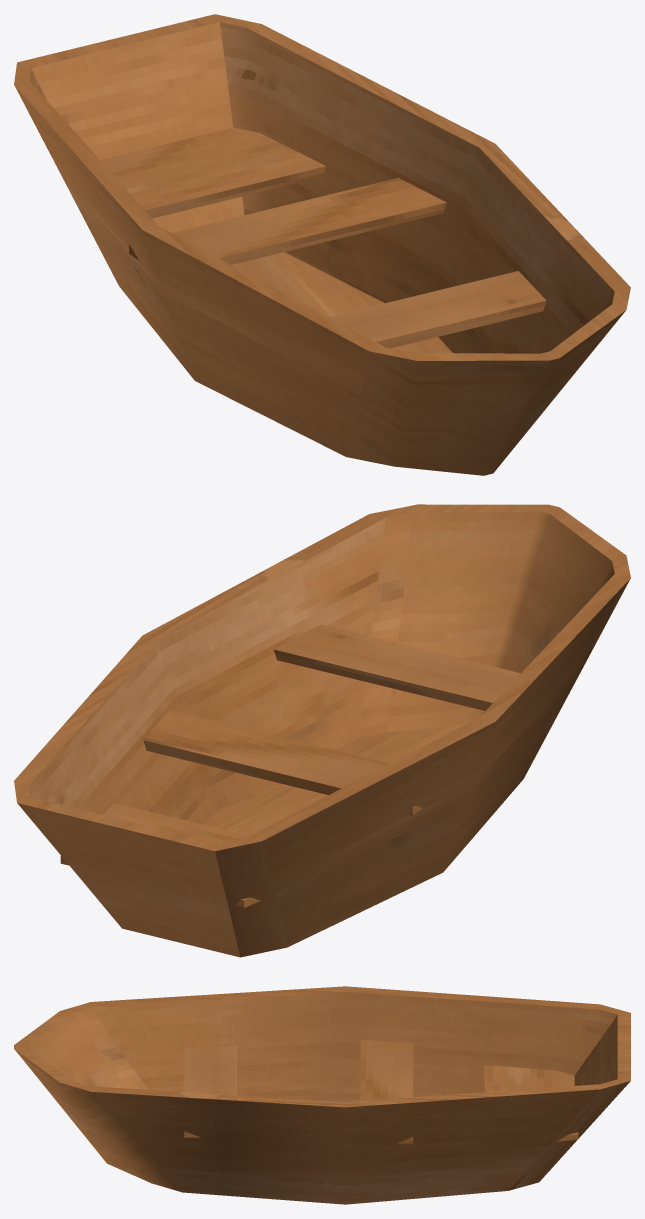
Rendered from Boat.glb.
3 views of the same model, one above another, from view 1: azimuth 30°, elevation 25°; view 2: azimuth 150°, elevation 25°; view 3: azimuth 270°, elevation 25° (orthographic). The views are drawn at different scales.
Parts seen in each view (by area): view 1: Cube.001; view 2: Cube.001; view 3: Cube.001.
Part boxes in pixels (x1,y1,x2,y2): Cube.001: (14,14,630,475); Cube.001: (14,504,630,957); Cube.001: (14,986,630,1204).
Size of the model in its own units: 6.3 by 2.79 by 13.55.
Materials: 1 (1 with a texture image).
